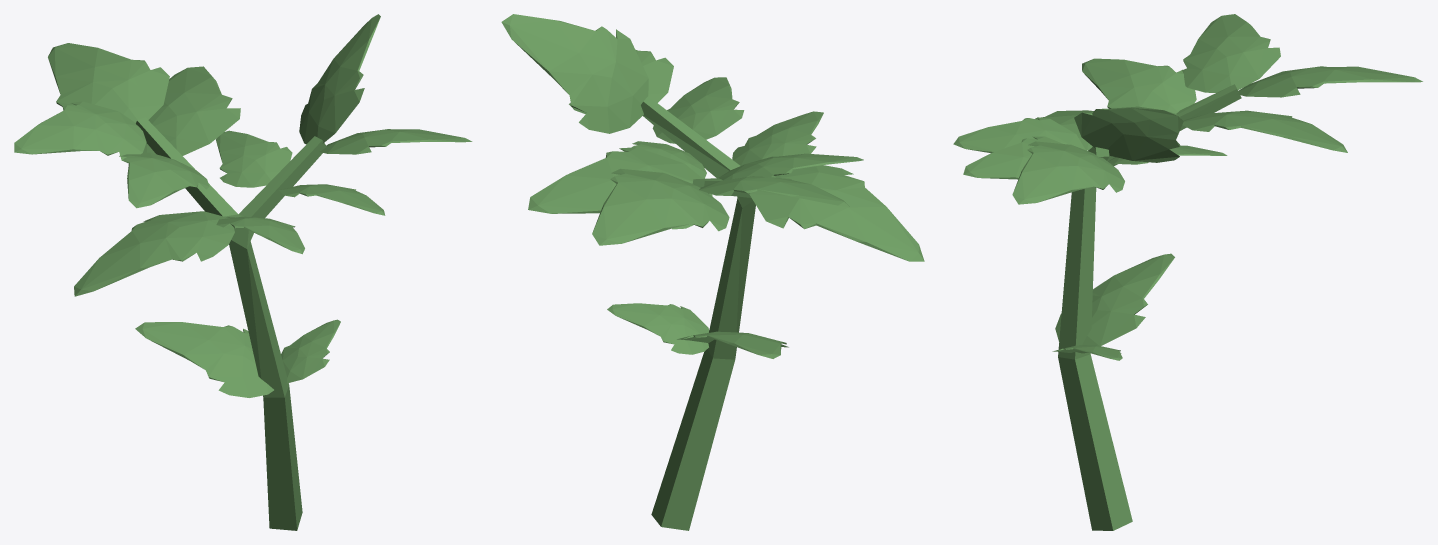
The model's file is TomatTahap1.fbx.
3 views of the same model, side by side, from view 1: azimuth 30°, elevation 25°; view 2: azimuth 150°, elevation 25°; view 3: azimuth 270°, elevation 25° (orthographic). The views are drawn at different scales.
Visible parts, largest first — view 1: TomatTahap1.002; view 2: TomatTahap1.002; view 3: TomatTahap1.002.
Part boxes in pixels (x1,y1,x2,y2): TomatTahap1.002: (14, 14, 472, 530); TomatTahap1.002: (501, 14, 924, 530); TomatTahap1.002: (953, 14, 1422, 530).
Size of the model in its own units: 18.01 by 21.74 by 19.29.
